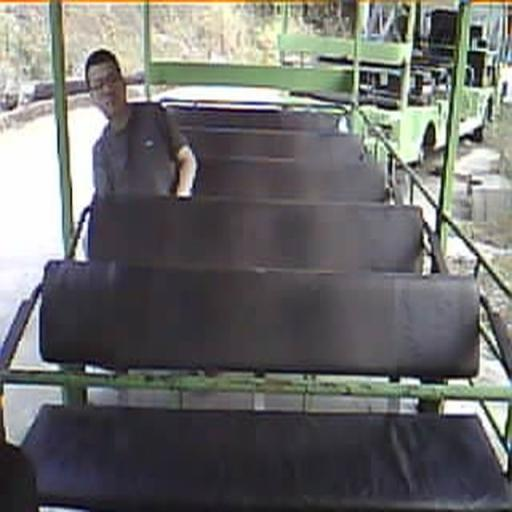persona: (84, 48, 198, 202)
